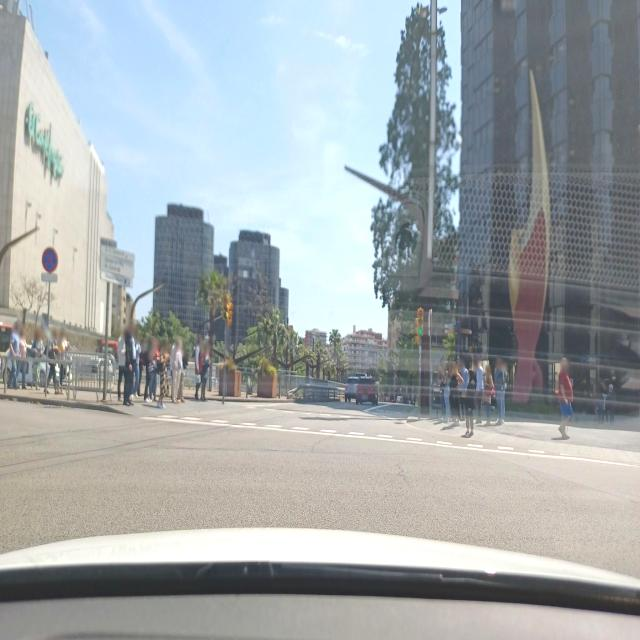car: (356, 376, 379, 405), (344, 375, 362, 402)
